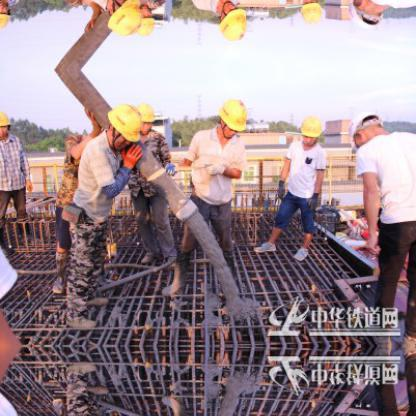helmet: (103, 101, 155, 143), (103, 0, 156, 36), (213, 91, 250, 141), (212, 0, 250, 46), (346, 109, 391, 146), (345, 0, 391, 28), (125, 100, 160, 134), (125, 2, 160, 36), (296, 110, 324, 149), (296, 0, 325, 27), (0, 106, 8, 137), (0, 0, 8, 31)
